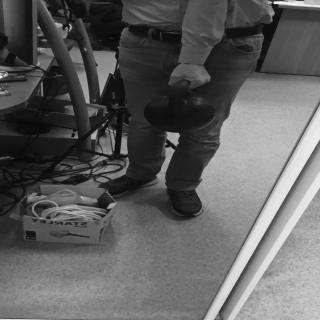girya: (143, 80, 223, 134)
